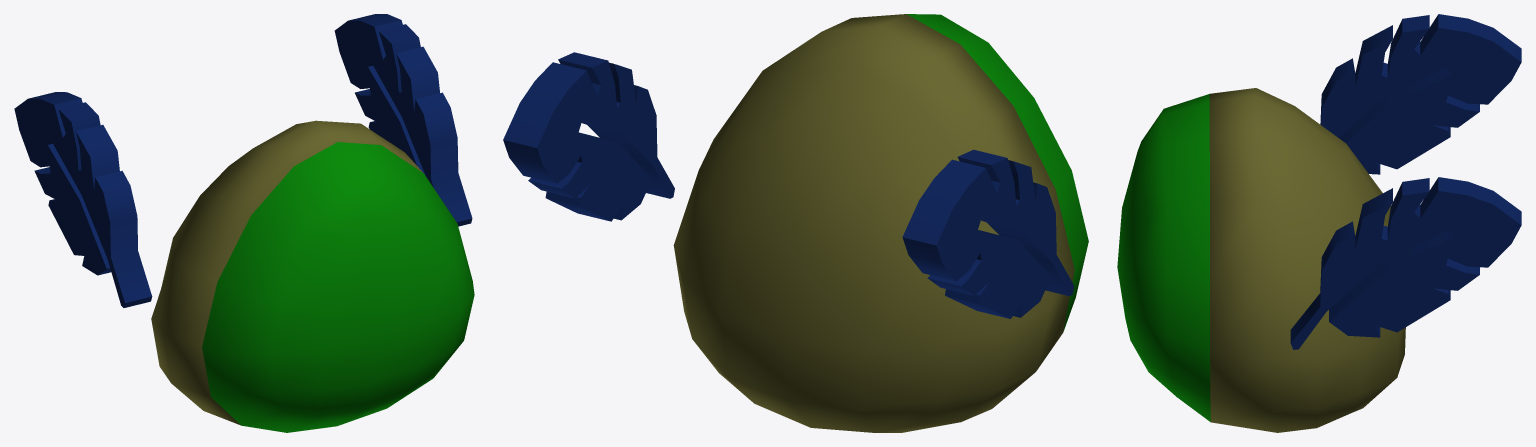
Rendered from unit_tree.fbx.
3 renders of one model, left to right at view 1: azimuth 30°, elevation 25°; view 2: azimuth 150°, elevation 25°; view 3: azimuth 270°, elevation 25°, orthographic. The views are drawn at different scales.
Visible parts, largest first — view 1: Object003; view 2: Object003; view 3: Object003.
Boxes of the visible parts, x1=… form: Object003: x1=14, y1=14, x2=474, y2=432; Object003: x1=503, y1=14, x2=1088, y2=432; Object003: x1=1117, y1=14, x2=1521, y2=432.
Size of the model in its own units: 22.48 by 18.39 by 21.71.
